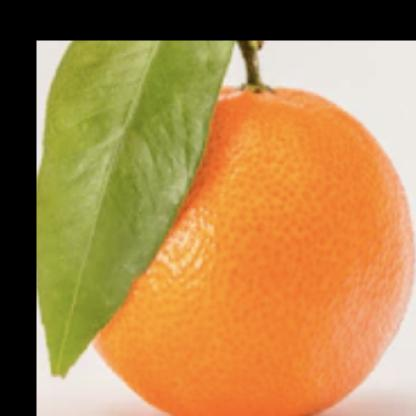fresh: (83, 83, 416, 416)
